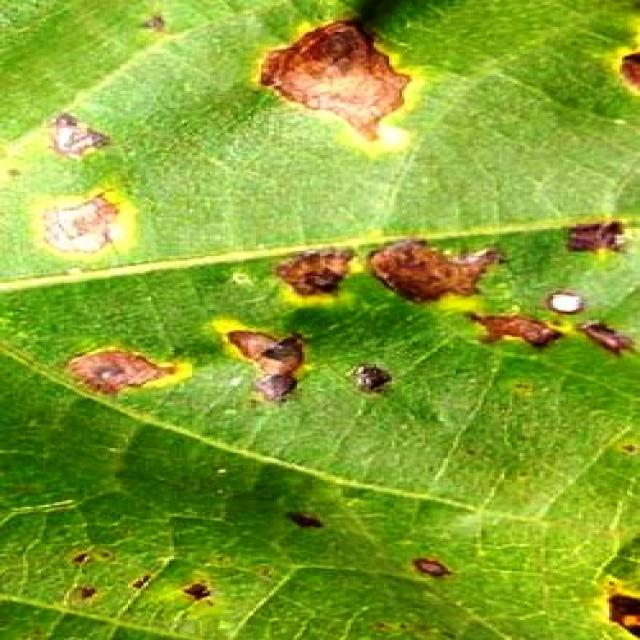Bacterial Blight: (297, 220, 615, 375), (230, 12, 433, 144)
